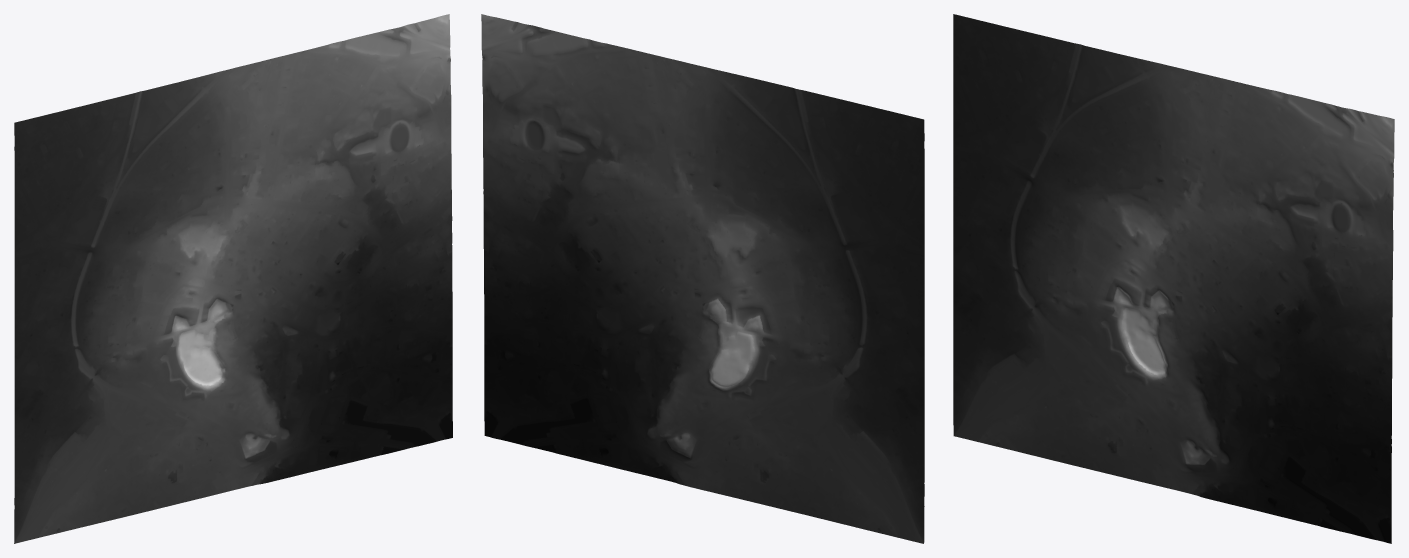
File: terrain.glb
3 views of the same model, side by side, from view 1: azimuth 30°, elevation 25°; view 2: azimuth 150°, elevation 25°; view 3: azimuth 330°, elevation 25° (orthographic).
Visible parts, largest first — view 1: 63843_dtm_1m; view 2: 63843_dtm_1m; view 3: 63843_dtm_1m.
Part boxes in pixels (x1,y1,x2,y2): 63843_dtm_1m: (14, 14, 452, 543); 63843_dtm_1m: (481, 14, 924, 543); 63843_dtm_1m: (953, 14, 1394, 543).
Bounding box in the file's own units: 3184 × 2930 × 49.17.
1 material, 1 textured.
